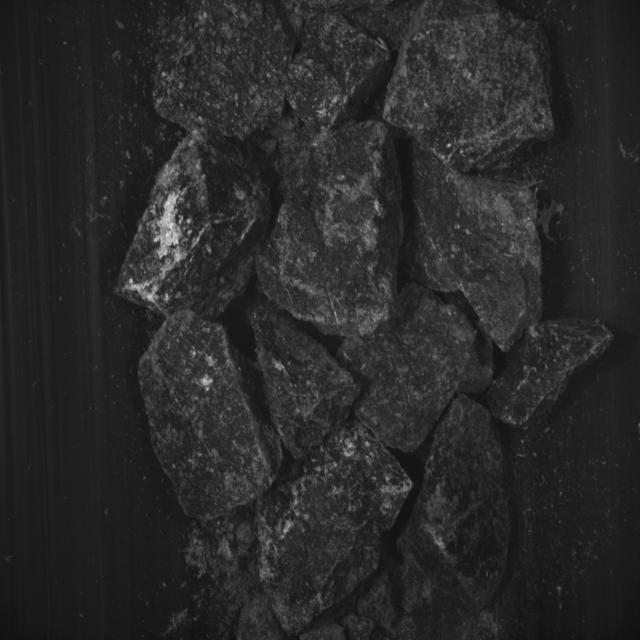Stones: (257, 423, 412, 635), (257, 121, 405, 336), (140, 311, 284, 521), (385, 1, 555, 173), (117, 132, 272, 319), (407, 143, 542, 352), (339, 284, 494, 453), (400, 397, 511, 610), (155, 1, 295, 140), (252, 306, 360, 460), (487, 319, 614, 430), (287, 14, 391, 137)
